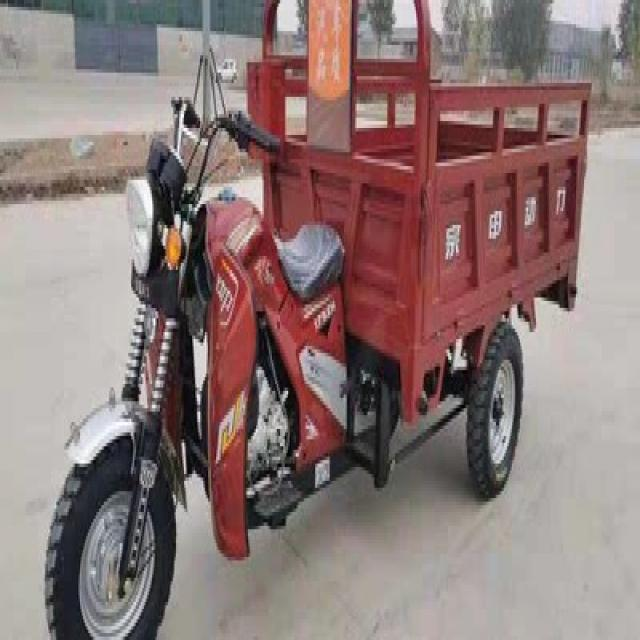tricycle: (42, 0, 590, 637)
